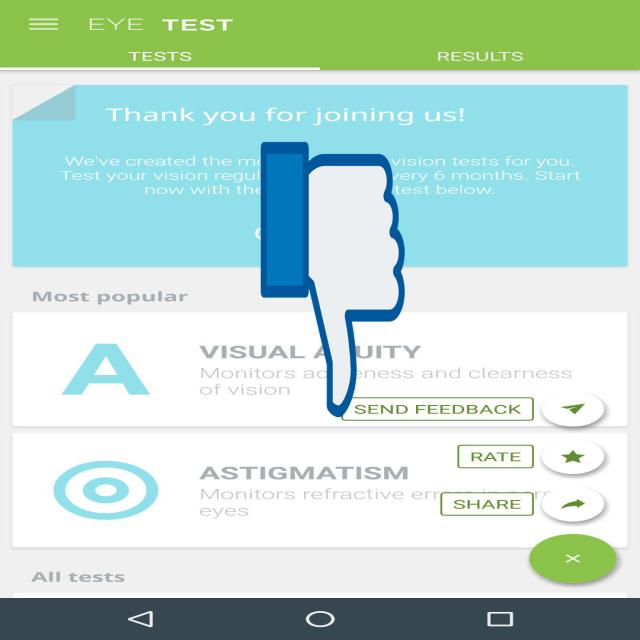obstruction: (260, 136, 404, 423)
